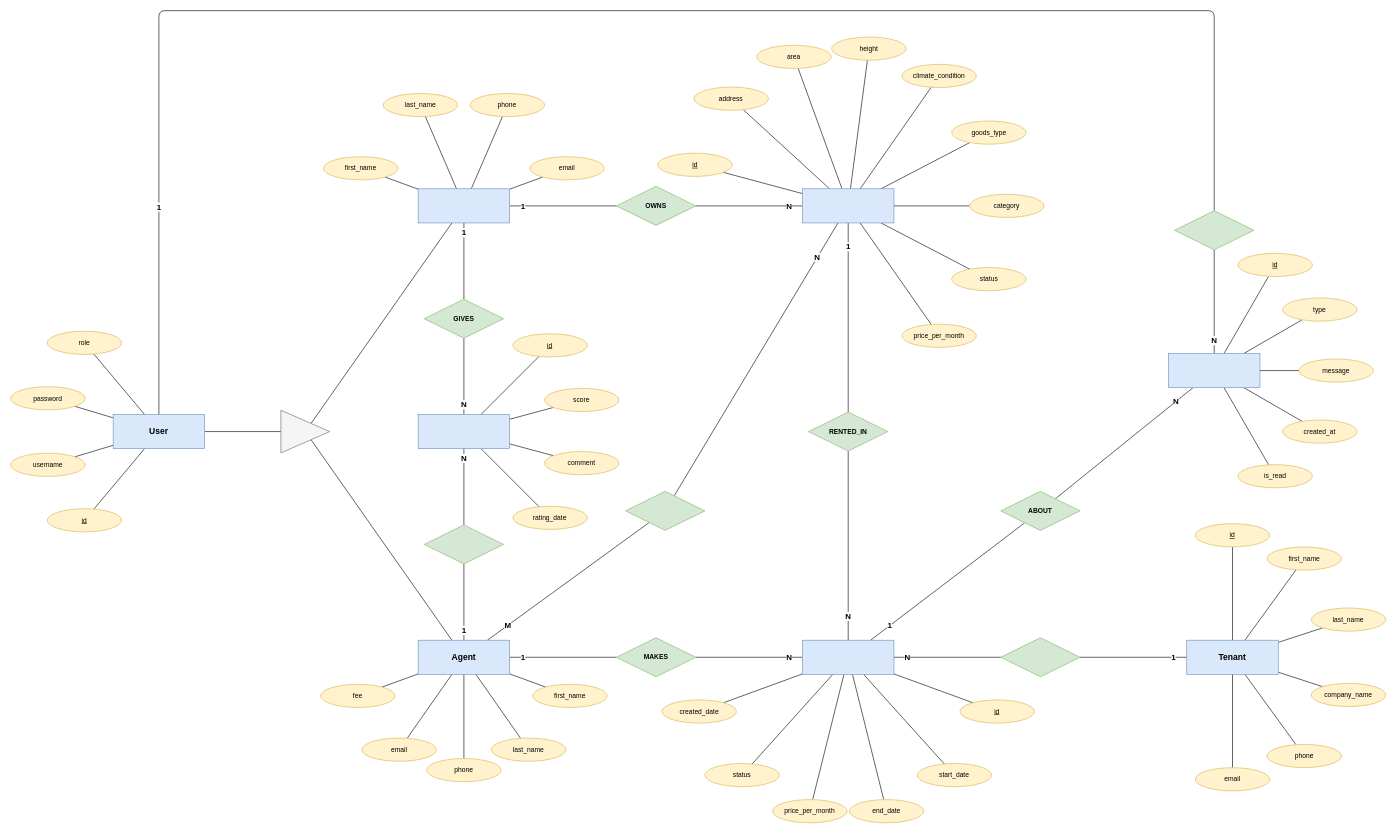
The diagram is 1397 pixels wide and 834 high, and some of its shapes have lost their labels. The shapes that lost their labels are listed below. From the top down, each one's centre as x and y in pixels, then its label:
At pixel 464 205: "Owner".
At pixel 848 205: "Warehouse".
At pixel 1214 230: "GETS".
At pixel 1214 370: "Notification".
At pixel 305 431: "ISA".
At pixel 464 431: "Rating".
At pixel 665 510: "ASSIGNED_TO".
At pixel 464 544: "RECEIVES".
At pixel 848 657: "RentalContract".
At pixel 1040 657: "SIGNS".
